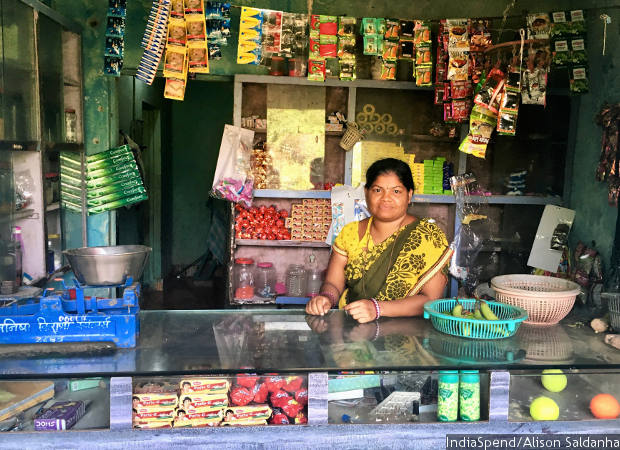Age_30_40: (366, 165, 416, 221)
E_Indian: (366, 165, 416, 221)
Emotion_Neutral: (366, 165, 416, 221)
G_ Female: (366, 165, 416, 221)
